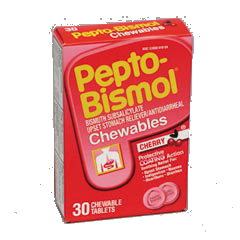grozi_97: (51, 17, 192, 223)
